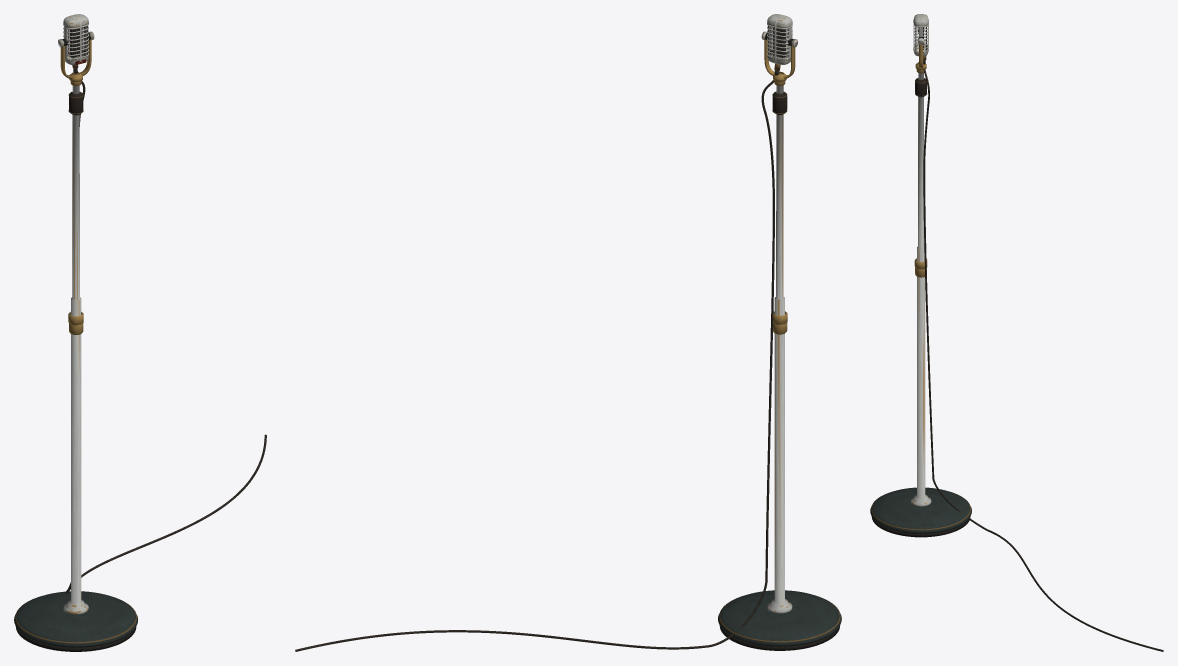
The model's file is KinseiRibbon.fbx.
3 renders of one model, left to right at view 1: azimuth 30°, elevation 25°; view 2: azimuth 150°, elevation 25°; view 3: azimuth 270°, elevation 25°, orthographic. The views are drawn at different scales.
Parts seen in each view (by area): view 1: 01 Cast-iron base and rubber sole, 02 Telescoping post and threaded bush, 13 Cloth lead with overbraid, 05 Nine open grille ribs and two spines, 03 Bronze horseshoe yoke, 04 Worn nickel crown and tail, 06 Front woven acoustic basket; view 2: 01 Cast-iron base and rubber sole, 02 Telescoping post and threaded bush, 13 Cloth lead with overbraid; view 3: 01 Cast-iron base and rubber sole, 02 Telescoping post and threaded bush, 13 Cloth lead with overbraid.
Part boxes in pixels (x1,y1,x2,y2): 01 Cast-iron base and rubber sole: [14, 591, 137, 651]; 02 Telescoping post and threaded bush: [63, 81, 88, 614]; 13 Cloth lead with overbraid: [65, 73, 266, 593]; 05 Nine open grille ribs and two spines: [63, 19, 88, 61]; 03 Bronze horseshoe yoke: [60, 38, 91, 81]; 04 Worn nickel crown and tail: [63, 14, 88, 64]; 06 Front woven acoustic basket: [69, 26, 87, 59]; 01 Cast-iron base and rubber sole: [718, 590, 841, 650]; 02 Telescoping post and threaded bush: [767, 81, 792, 613]; 13 Cloth lead with overbraid: [295, 80, 774, 651]; 01 Cast-iron base and rubber sole: [870, 487, 971, 537]; 02 Telescoping post and threaded bush: [911, 69, 931, 506]; 13 Cloth lead with overbraid: [923, 64, 1163, 651].
Bounding box in the file's own units: 1.06 × 1.58 × 0.8364.
Materials: 1 (1 with a texture image).
